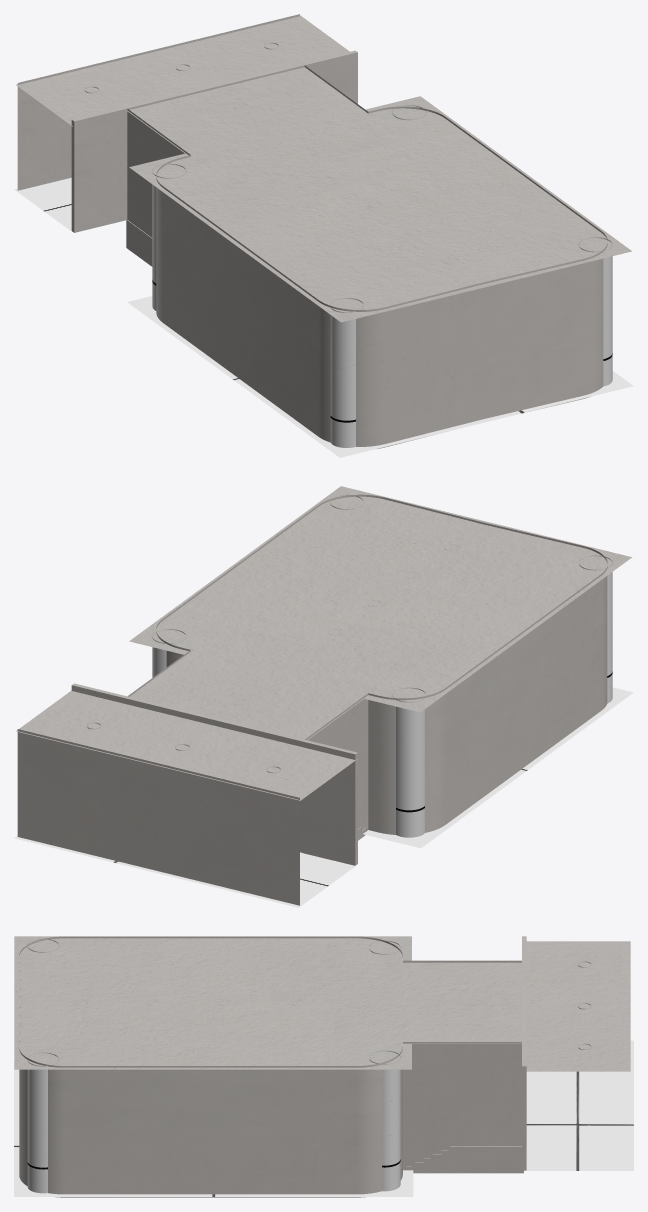
File: office.fbx
3 renders of one model, top to bottom at view 1: azimuth 30°, elevation 25°; view 2: azimuth 150°, elevation 25°; view 3: azimuth 270°, elevation 25°, orthographic. The views are drawn at different scales.
Parts seen in each view (by area): view 1: Ceiling.Shape, Wall04.Shape, Wall03.Shape, Wall02.Shape, Wall01.Shape, Floor.Shape, Wall05.Shape; view 2: Ceiling.Shape, Wall03.Shape, Wall01.Shape, Wall02.Shape, Floor.Shape, Wall05.Shape, Wall04.Shape; view 3: Ceiling.Shape, Wall05.Shape, Floor.Shape, Wall03.Shape, Wall02.Shape, Wall04.Shape.
Part boxes in pixels (box(x1,y1,x2,y2)): Ceiling.Shape: box(16, 15, 631, 322); Wall04.Shape: box(343, 244, 607, 448); Wall03.Shape: box(126, 109, 363, 447); Wall02.Shape: box(71, 50, 357, 232); Wall01.Shape: box(17, 14, 299, 190); Floor.Shape: box(14, 177, 633, 457); Wall05.Shape: box(304, 65, 612, 386); Ceiling.Shape: box(16, 486, 632, 800); Wall03.Shape: box(305, 555, 612, 858); Wall01.Shape: box(17, 729, 299, 905); Wall02.Shape: box(71, 683, 357, 865); Floor.Shape: box(14, 687, 633, 907); Wall05.Shape: box(128, 494, 363, 696); Wall04.Shape: box(343, 494, 607, 561); Ceiling.Shape: box(14, 936, 630, 1071); Wall05.Shape: box(27, 1042, 523, 1197); Floor.Shape: box(14, 1040, 633, 1196); Wall03.Shape: box(27, 936, 521, 962); Wall02.Shape: box(522, 936, 526, 1170); Wall04.Shape: box(19, 941, 35, 1185).
Size of the model in its own units: 1890 by 971 by 442.
Materials: 60 (38 with a texture image).
